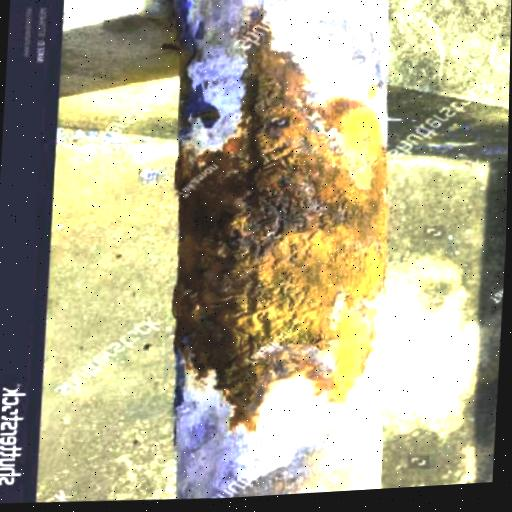corrosion: (156, 29, 403, 447)
